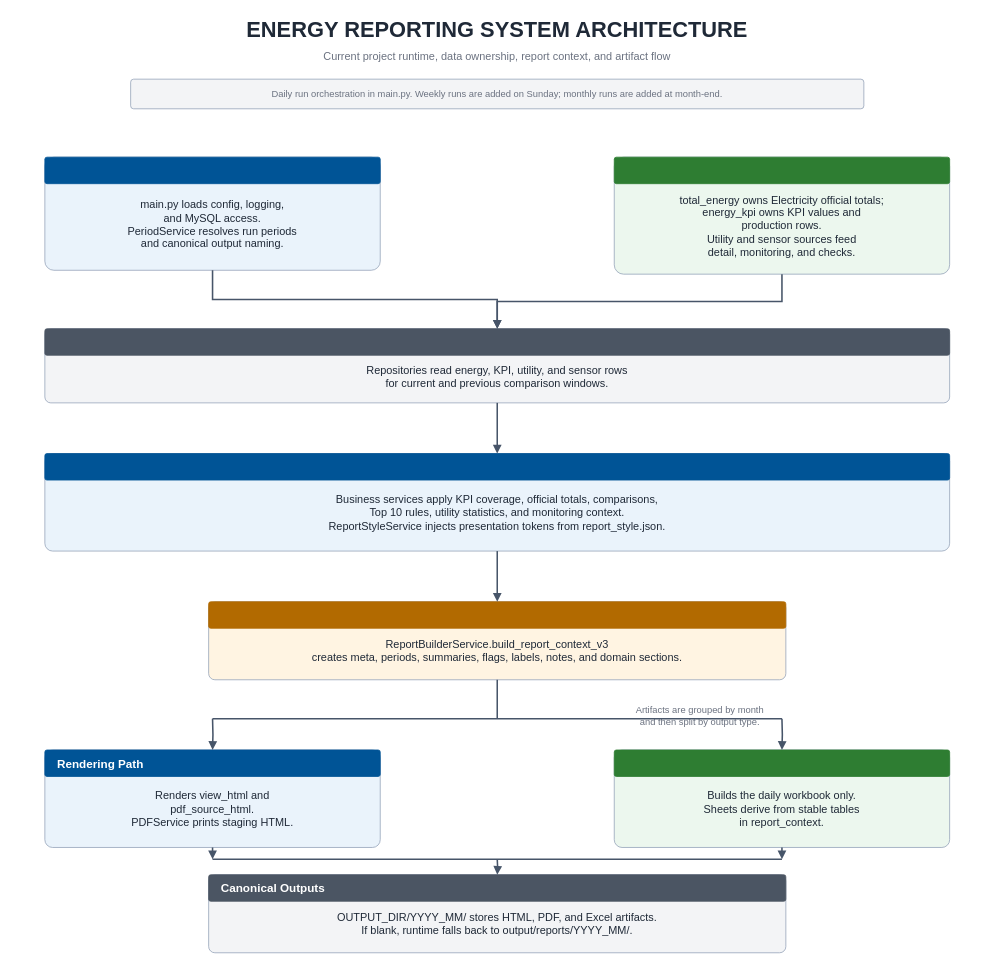
Some shapes in this 994 by 966 pixel diagram are drawn without their labels. Each missing label, with the centre of its shape:
"Excel Export Path" belongs at (x=781, y=762).
"Repository Layer" belongs at (x=497, y=341).
"Runtime and Configuration Inputs" belongs at (x=212, y=170).
"Service Layer" belongs at (x=497, y=466).
"Source Data Ownership" belongs at (x=781, y=170).
"Unified report_context" belongs at (x=497, y=614).
